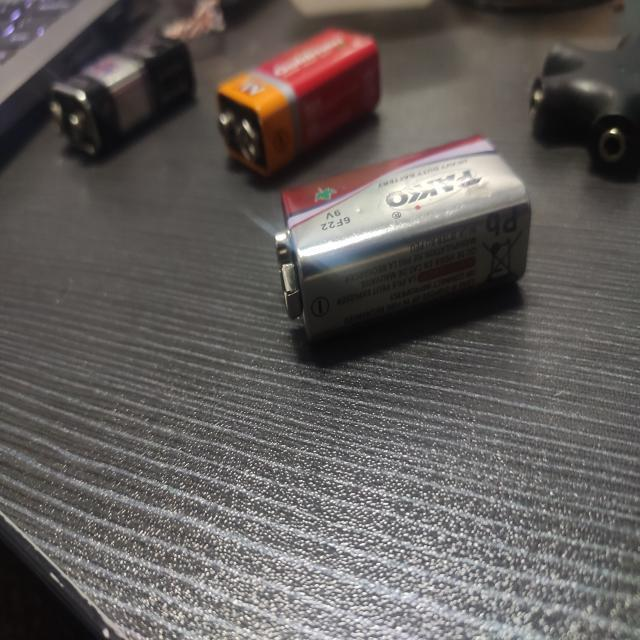hazardous waste: (260, 125, 548, 348), (210, 27, 398, 182), (40, 18, 206, 156)
